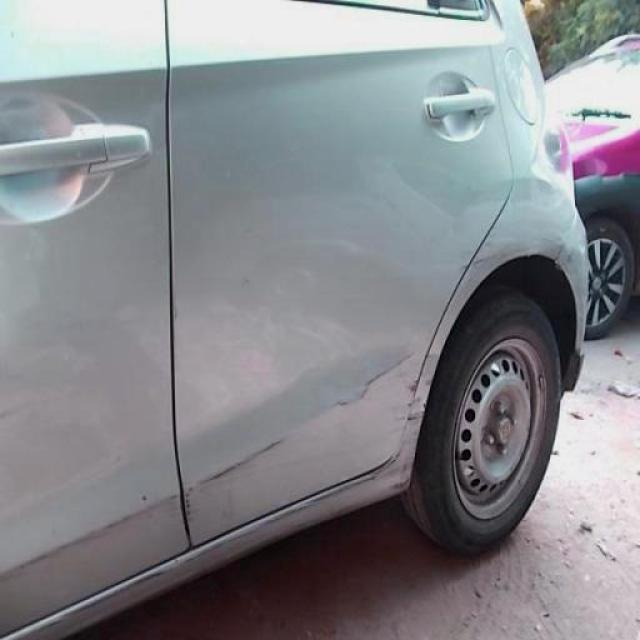car damage: (0, 489, 181, 581), (255, 455, 405, 538), (184, 433, 293, 493), (331, 345, 425, 414), (461, 239, 579, 274), (391, 433, 420, 495), (400, 376, 432, 428), (181, 495, 196, 527)
